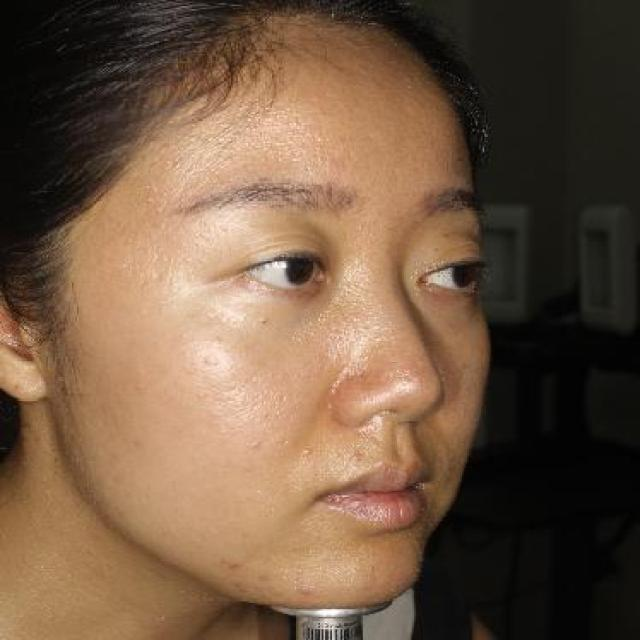acne: (290, 582, 324, 604), (296, 443, 320, 465), (246, 434, 268, 457), (350, 444, 370, 466), (252, 314, 276, 332), (205, 330, 229, 347)
